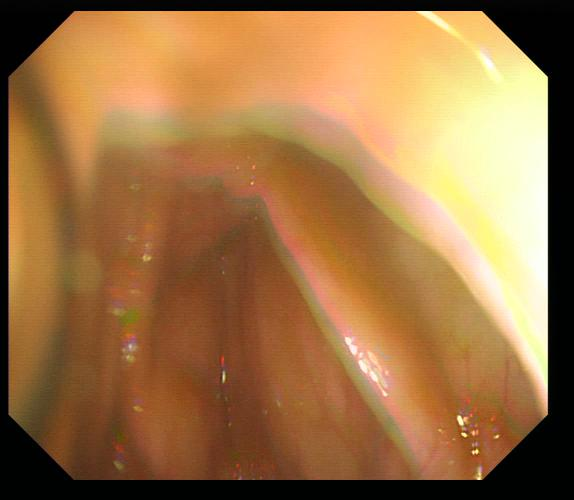polyp: (226, 173, 254, 199)
